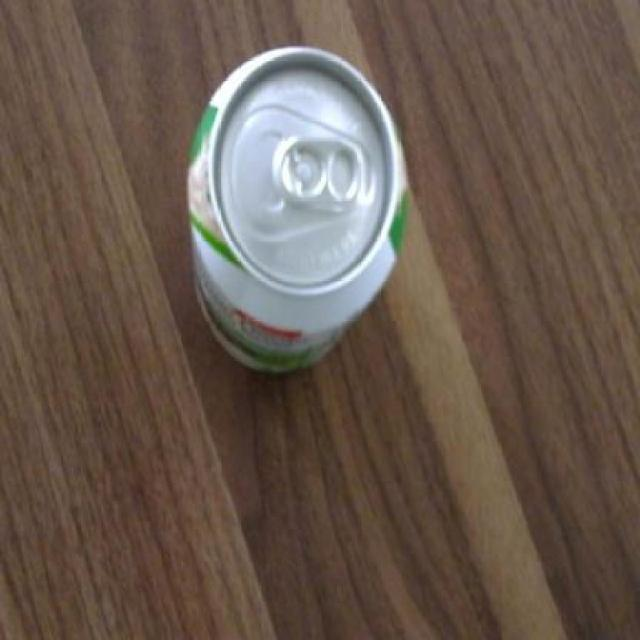Metal: (184, 40, 416, 385)
